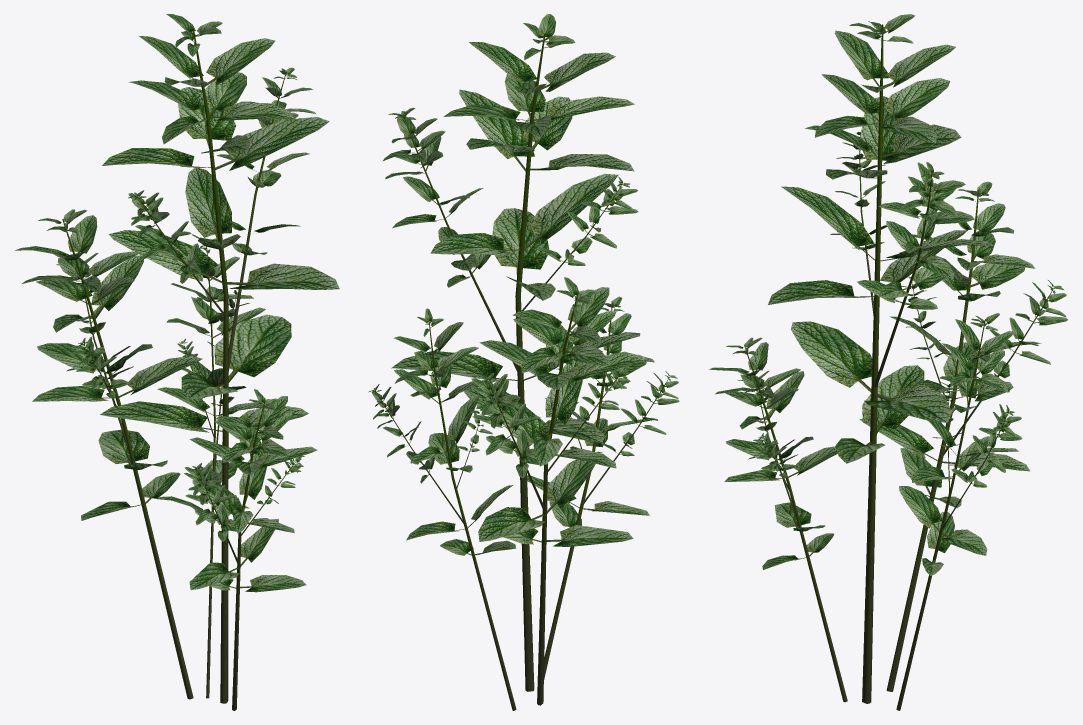
The model's file is Peppermint3.fbx.
3 renders of one model, left to right at view 1: azimuth 30°, elevation 25°; view 2: azimuth 150°, elevation 25°; view 3: azimuth 270°, elevation 25°, orthographic.
Visible parts, largest first — view 1: Peppermint3; view 2: Peppermint3; view 3: Peppermint3.
Part boxes in pixels (x1=…): Peppermint3: x1=15, y1=14, x2=339, y2=710; Peppermint3: x1=368, y1=14, x2=679, y2=710; Peppermint3: x1=709, y1=14, x2=1068, y2=710.
Size of the model in its own units: 39.8 by 103 by 49.45.
